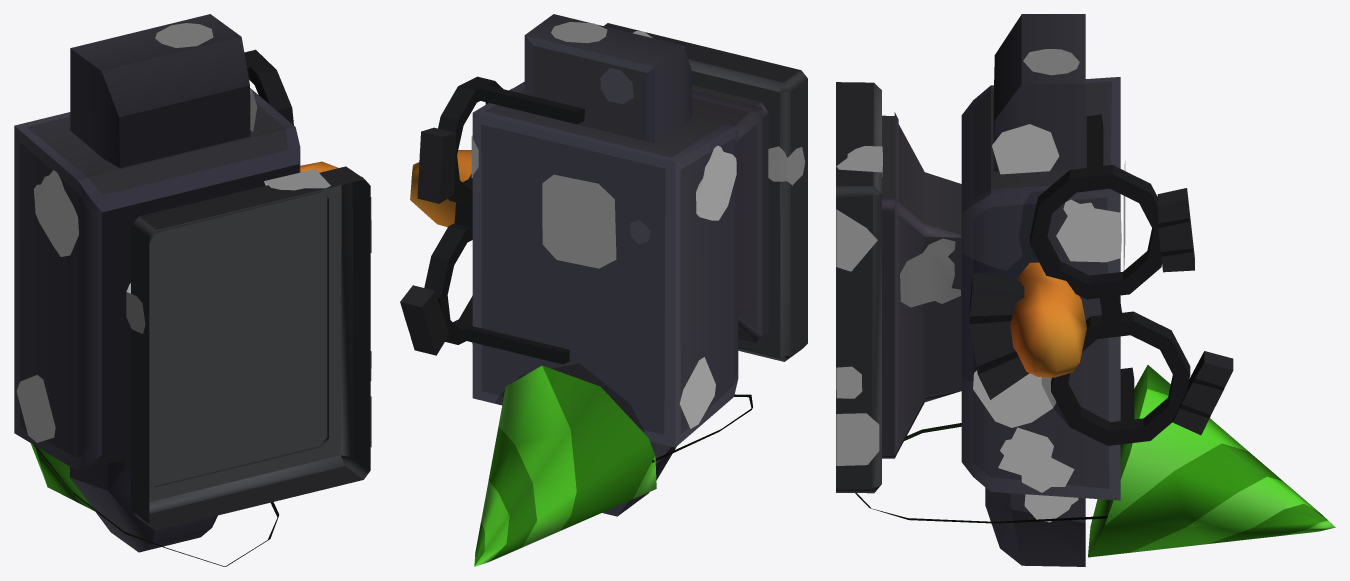
The model's file is TonOfFun.fbx.
3 views of the same model, side by side, from view 1: azimuth 30°, elevation 25°; view 2: azimuth 150°, elevation 25°; view 3: azimuth 270°, elevation 25° (orthographic). The views are drawn at different scales.
Parts seen in each view (by area): view 1: tonOfFunOpt; view 2: tonOfFunOpt; view 3: tonOfFunOpt.
Boxes of the visible parts, x1,y1,x2,y2 form: tonOfFunOpt: [14, 14, 371, 566]; tonOfFunOpt: [400, 14, 807, 566]; tonOfFunOpt: [836, 14, 1335, 566].
Bounding box in the file's own units: 135 × 200 × 179.
